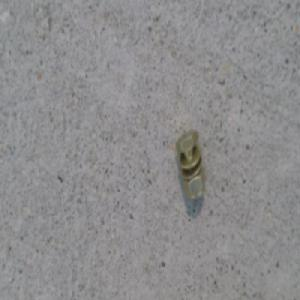BoltNutSet: (175, 130, 205, 200)
